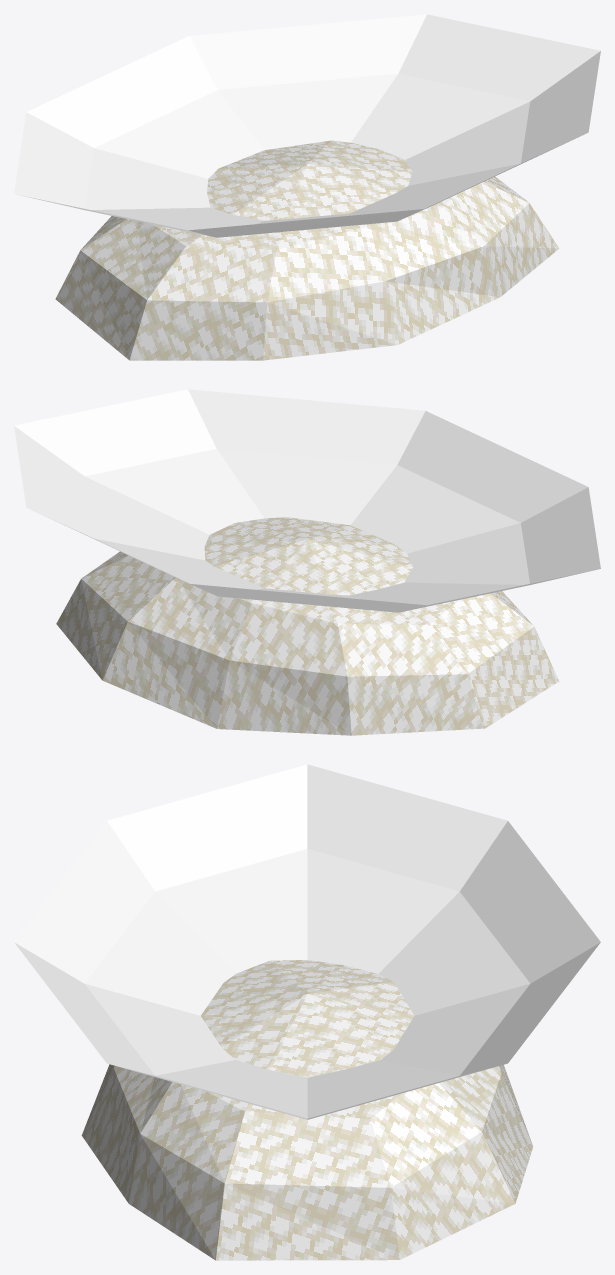
The picture shows the model from 3 angles, top to bottom: view 1: azimuth 30°, elevation 25°; view 2: azimuth 150°, elevation 25°; view 3: azimuth 270°, elevation 25°; orthographic projection. The views are drawn at different scales.
Visible parts, largest first — view 1: 1375item2765r; view 2: 1375item2765r; view 3: 1375item2765r.
Boxes of the visible parts, box(x1,y1,x2,y2) form: 1375item2765r: box(14, 14, 600, 360); 1375item2765r: box(14, 389, 600, 735); 1375item2765r: box(14, 764, 600, 1260).
Bounding box in the file's own units: 0.6587 × 0.177 × 0.4595.
2 materials, 2 textured.
